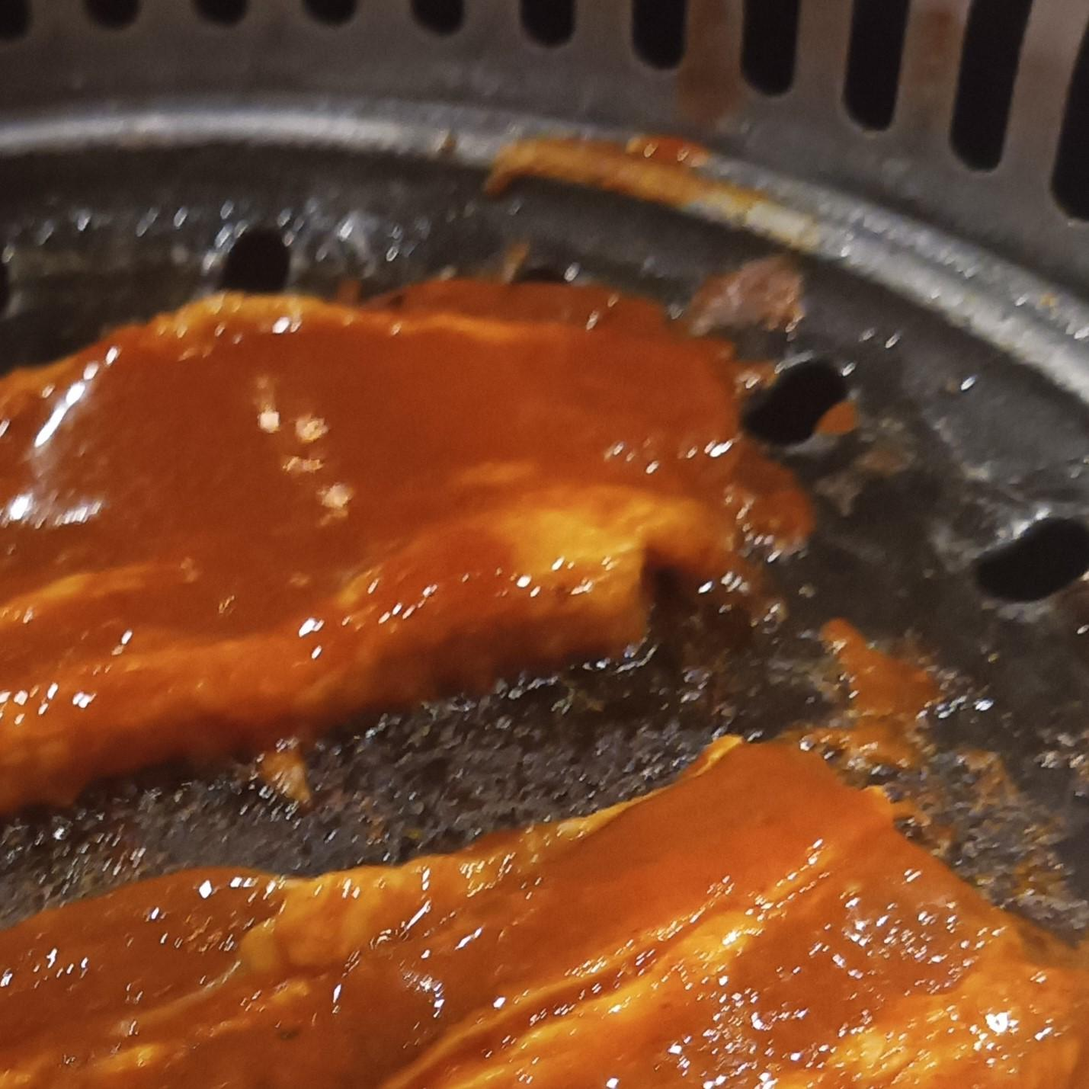Undercooked: (0, 296, 811, 811), (0, 739, 1088, 1088)
